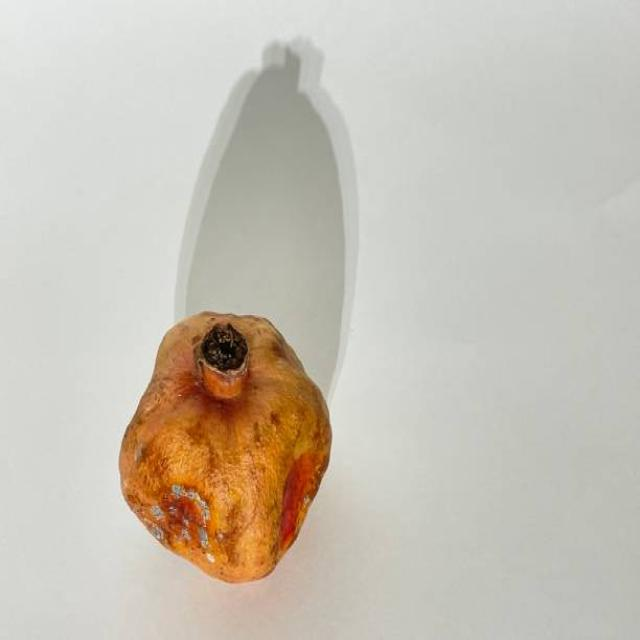overripe: (111, 303, 333, 584)
